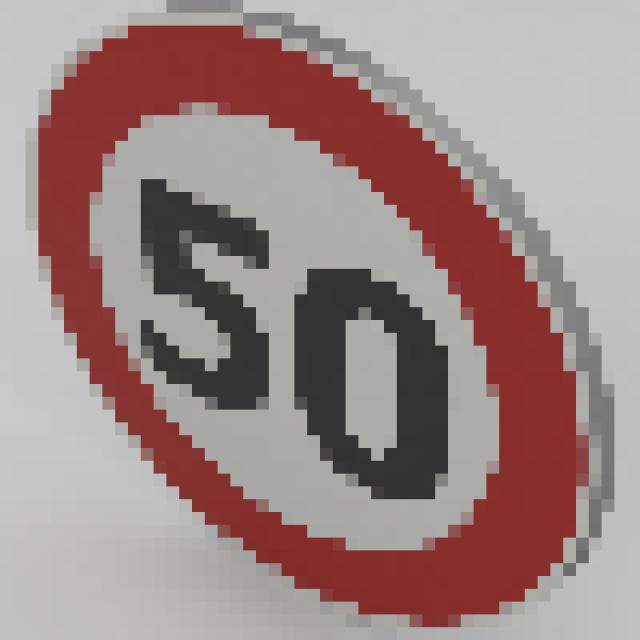Limite-50: (29, 13, 592, 628)
